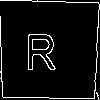R: (24, 24, 57, 71)
